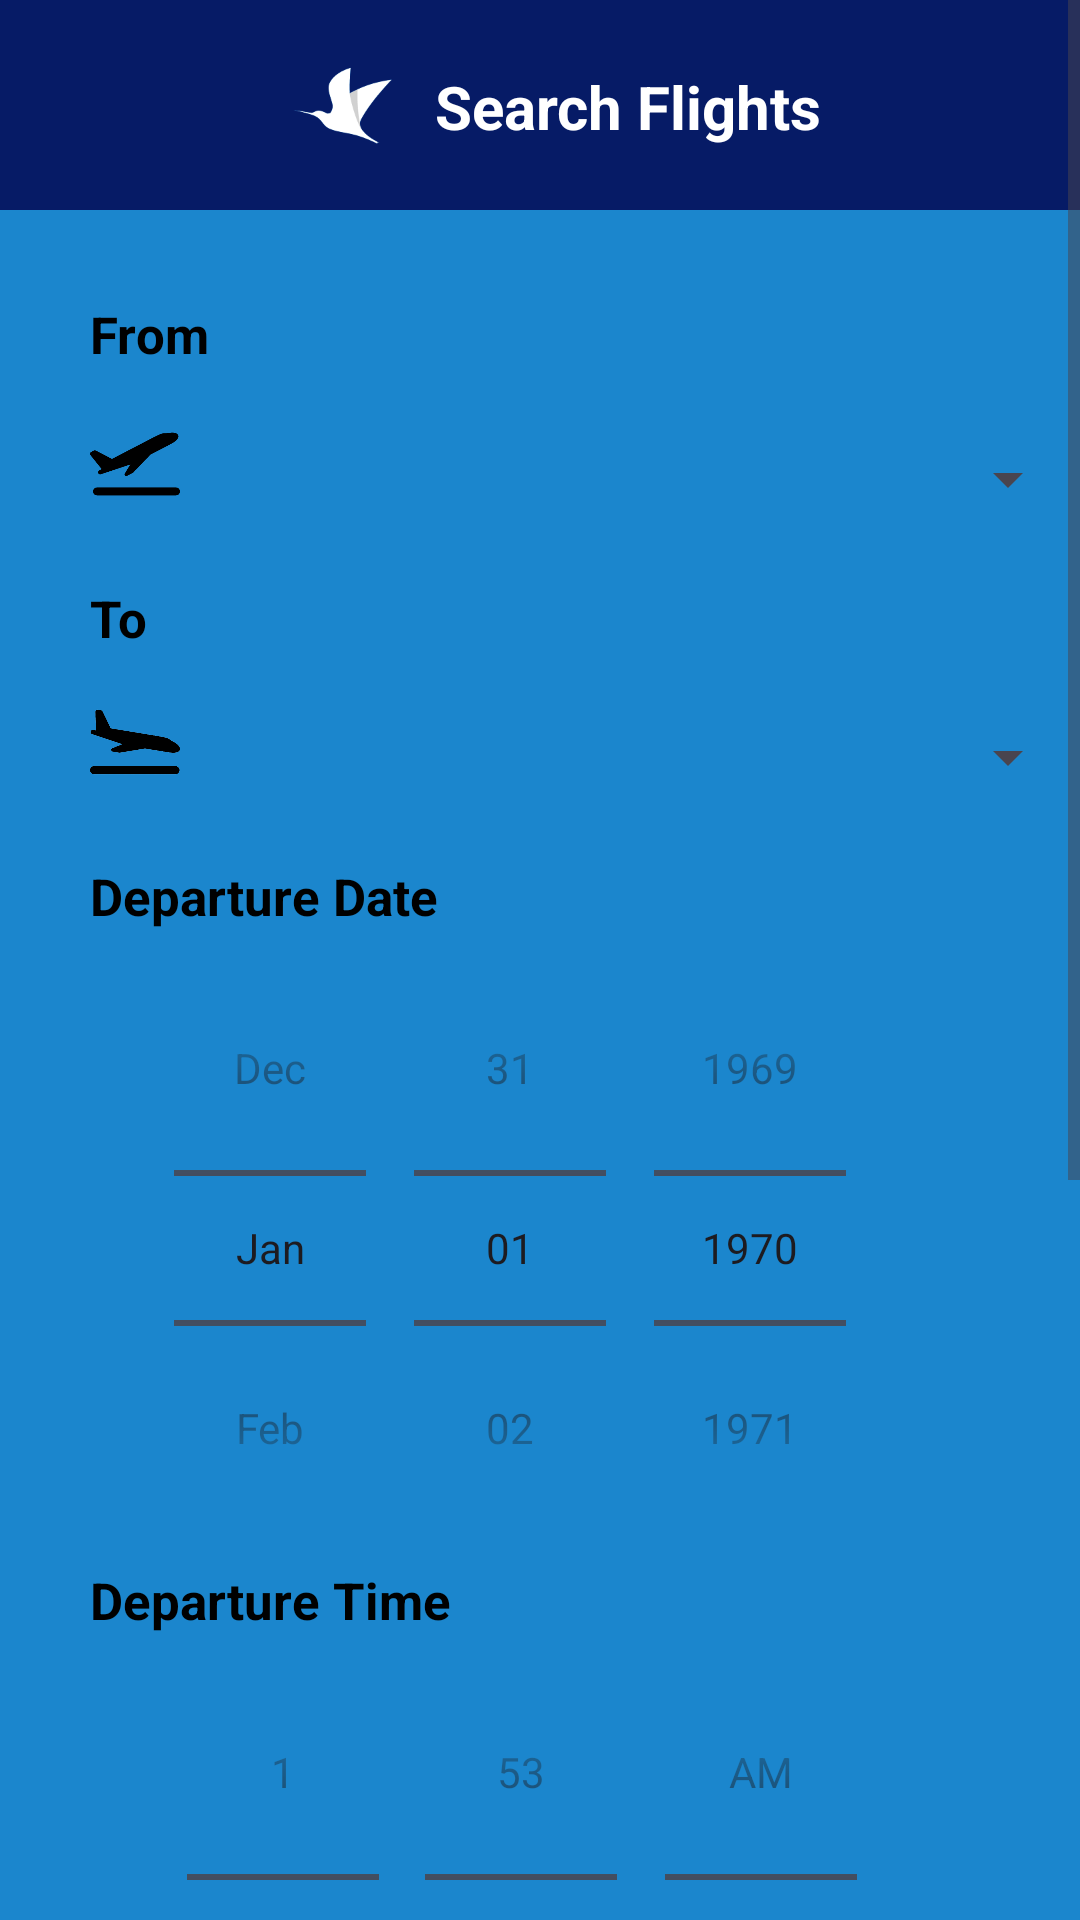

Screen size 1080x1920. Icon name, then its box in pixels as rect(x1, y1, x2, y2):
landingg: rect(90, 710, 180, 774)
takeoff: rect(90, 432, 180, 496)
